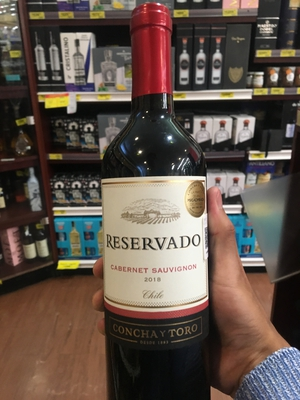reservado cabernet sauvignon: (98, 10, 220, 400)
